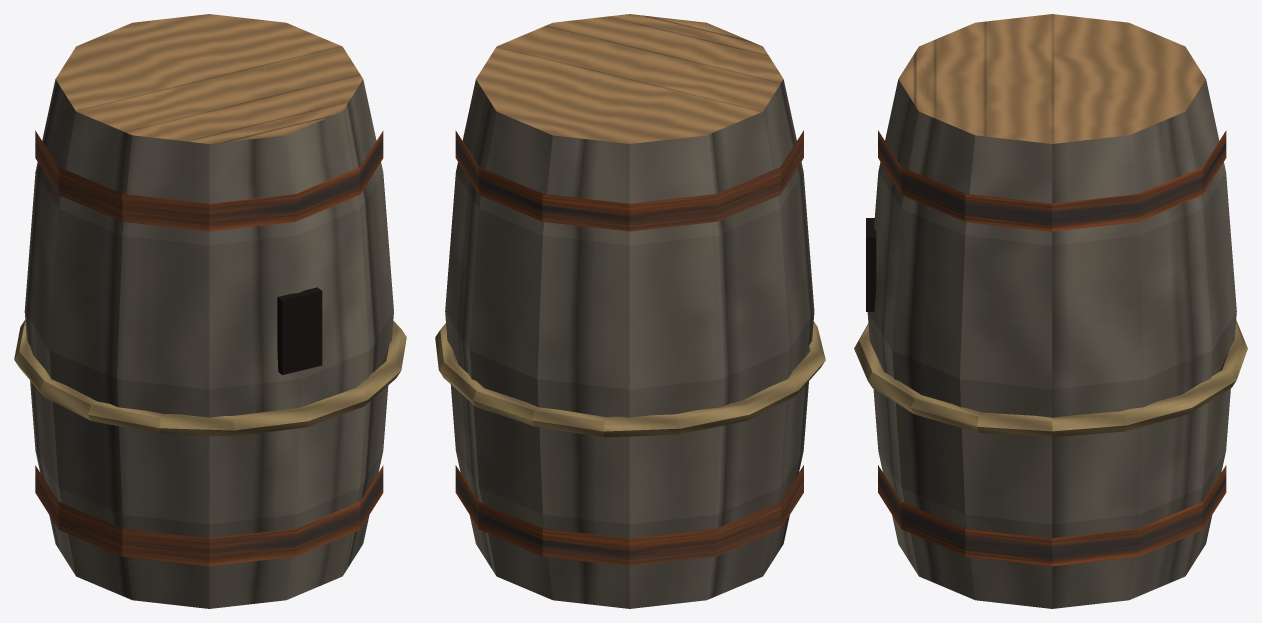
Rendered from prop_barrel_red.glb.
The picture shows the model from 3 angles, left to right: view 1: azimuth 30°, elevation 25°; view 2: azimuth 150°, elevation 25°; view 3: azimuth 270°, elevation 25°; orthographic projection.
Visible parts, largest first — view 1: prop_barrel_red; view 2: prop_barrel_red; view 3: prop_barrel_red.
Part boxes in pixels (box(x1,y1,x2,y2)): prop_barrel_red: box(14, 14, 406, 608); prop_barrel_red: box(435, 14, 825, 608); prop_barrel_red: box(854, 14, 1247, 608).
Bounding box in the file's own units: 0.763 × 1 × 0.768.
Materials: 1 (1 with a texture image).
